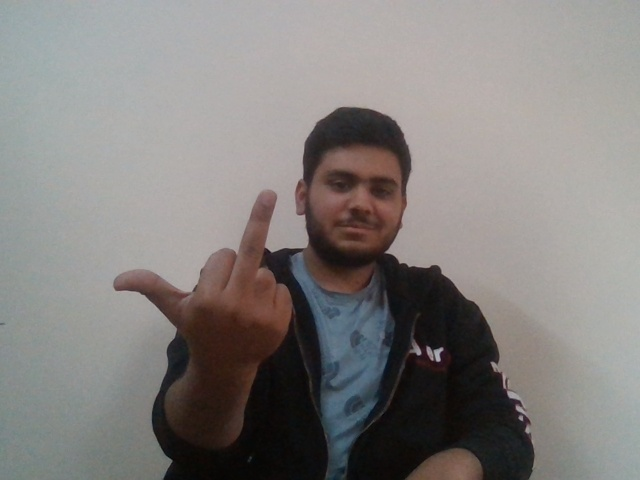Hello: (177, 188, 299, 367)
